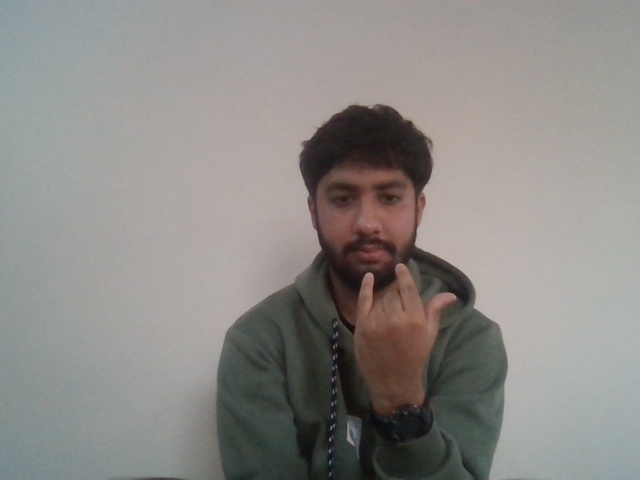IloveYou: (343, 262, 463, 377)
